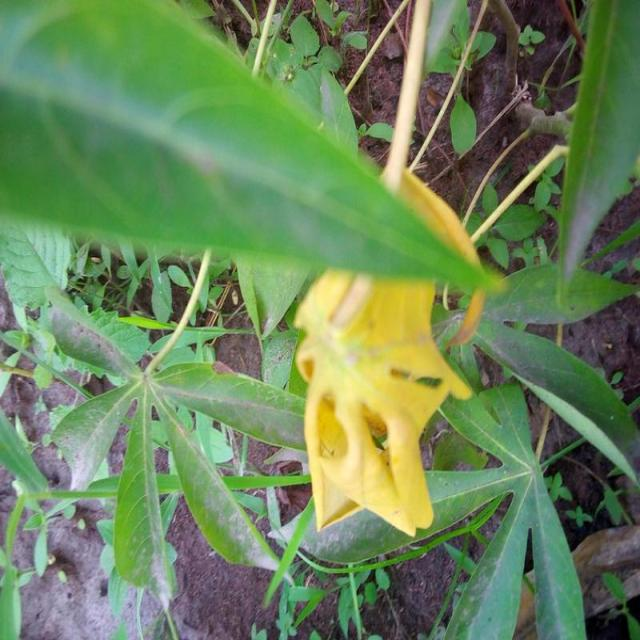cassava leaf: (0, 0, 498, 299)
